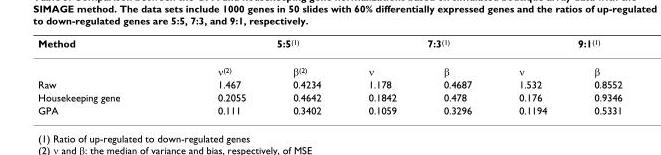table: (37, 36, 621, 115)
table column: (37, 36, 168, 115), (168, 36, 268, 115), (268, 36, 344, 115), (344, 36, 419, 115), (419, 36, 494, 115), (494, 36, 569, 115), (569, 36, 621, 115)
table column header: (37, 36, 621, 77)
table row: (37, 56, 621, 77), (37, 36, 621, 56), (37, 77, 621, 90), (37, 90, 621, 103), (37, 103, 621, 115)
table spanning cell: (37, 36, 168, 77), (168, 36, 344, 56), (344, 36, 494, 56), (494, 36, 621, 56)
